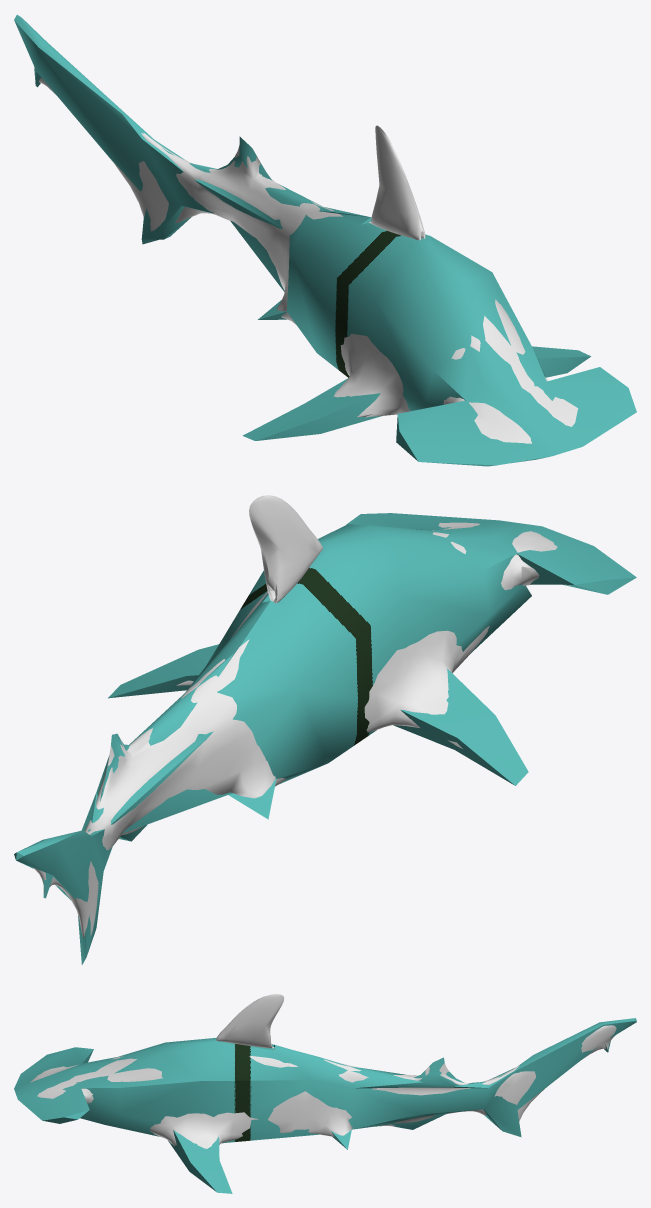
File: SCN2_Shark_v2.gltf
3 renders of one model, top to bottom at view 1: azimuth 30°, elevation 25°; view 2: azimuth 150°, elevation 25°; view 3: azimuth 270°, elevation 25°, orthographic. The views are drawn at different scales.
Parts seen in each view (by area): view 1: ceinture_requin, Requin, Aileron requin; view 2: ceinture_requin, Requin, Aileron requin; view 3: ceinture_requin, Requin, Aileron requin.
Part boxes in pixels (left/top/right/bottom): ceinture_requin: left=14, top=14, right=636, bottom=466; Requin: left=34, top=67, right=578, bottom=443; Aileron requin: left=371, top=125, right=425, bottom=240; ceinture_requin: left=14, top=513, right=636, bottom=964; Requin: left=33, top=522, right=570, bottom=937; Aileron requin: left=249, top=495, right=322, bottom=603; ceinture_requin: left=14, top=1018, right=636, bottom=1193; Requin: left=30, top=1025, right=616, bottom=1148; Aileron requin: left=216, top=994, right=284, bottom=1048.
Bounding box in the file's own units: 38.01 × 26.22 × 94.44.
1 material, 1 textured.
